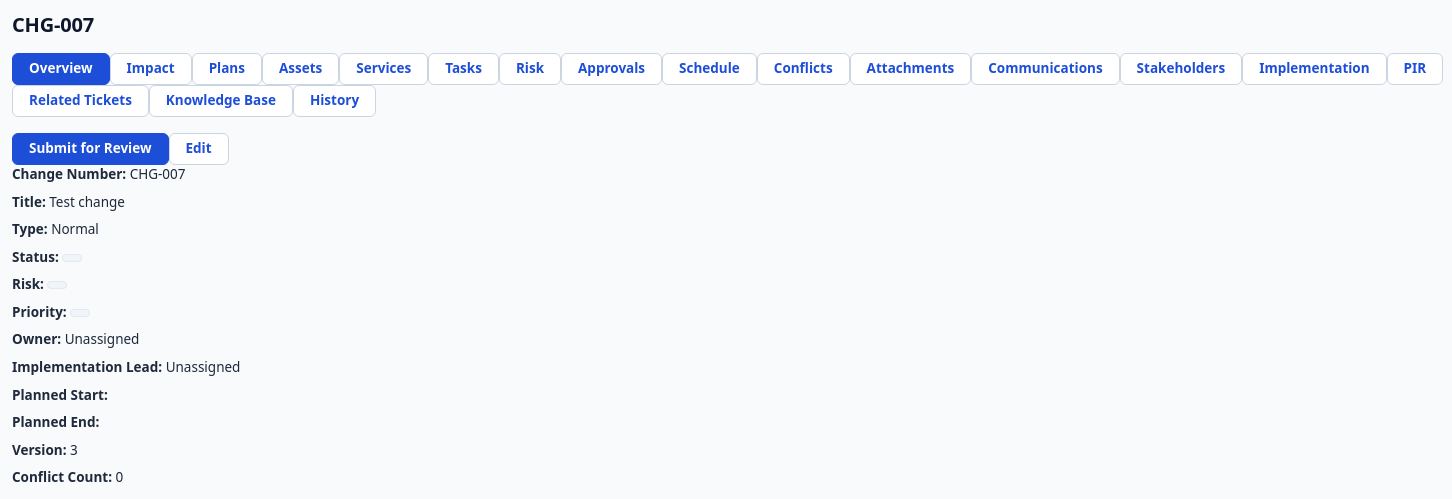
Test: ChangeDetail workflow actions › shows an empty state when there are no communications
Expected: the heading "CHG-007" is shown, [12,12,94,37]
Click the button "Communications".
click(1045, 69)  # box [971,53,1120,85]
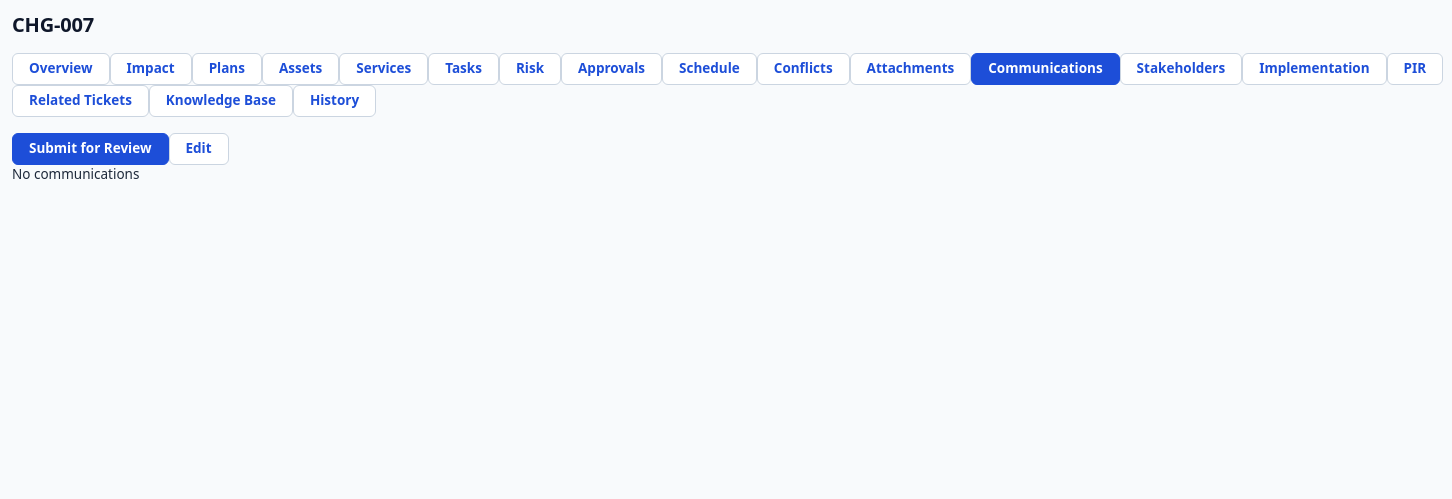
Now the text "No communications" is shown, box [12,165,139,183]
